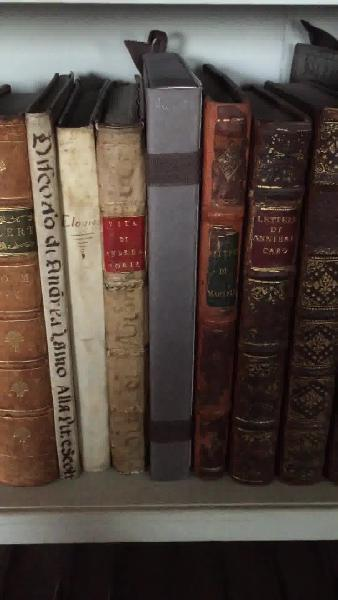Aa6-24: (25, 107, 80, 473)
Aa6-25: (59, 123, 113, 482)
Aa6-26: (93, 117, 151, 480)
Aa6-27: (137, 73, 207, 485)
Aa6-28: (200, 89, 243, 477)
Aa6-29: (242, 110, 292, 481)
Aa6-30: (277, 96, 338, 481)
